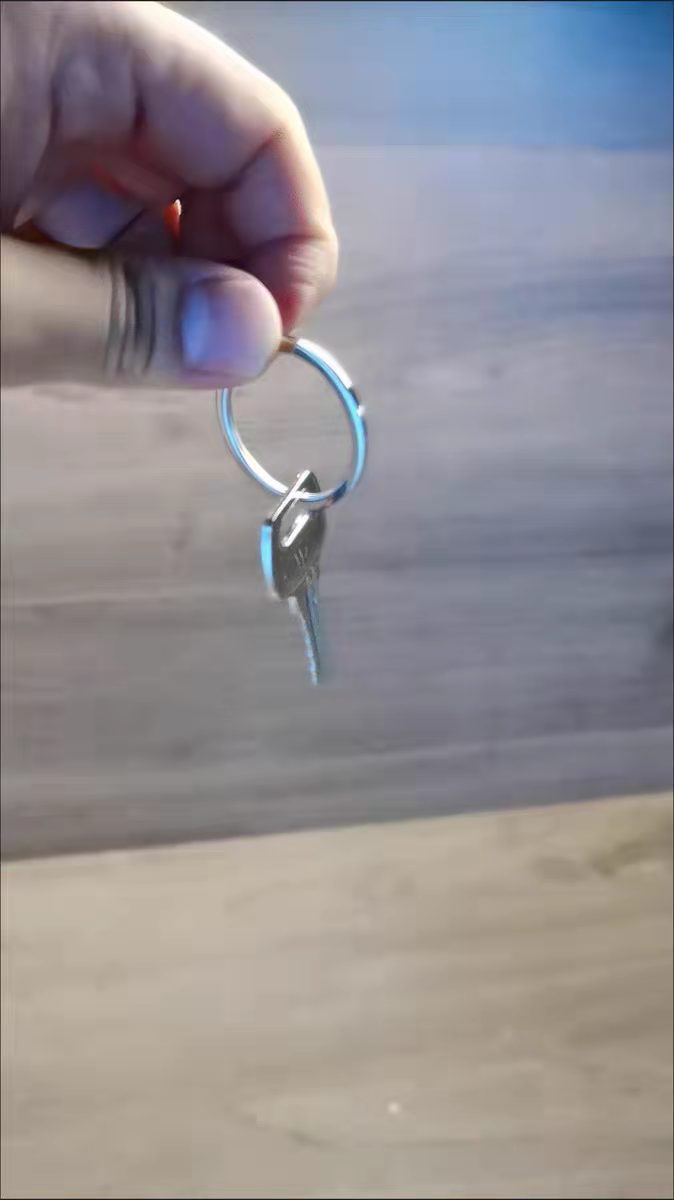key: (240, 458, 382, 701)
